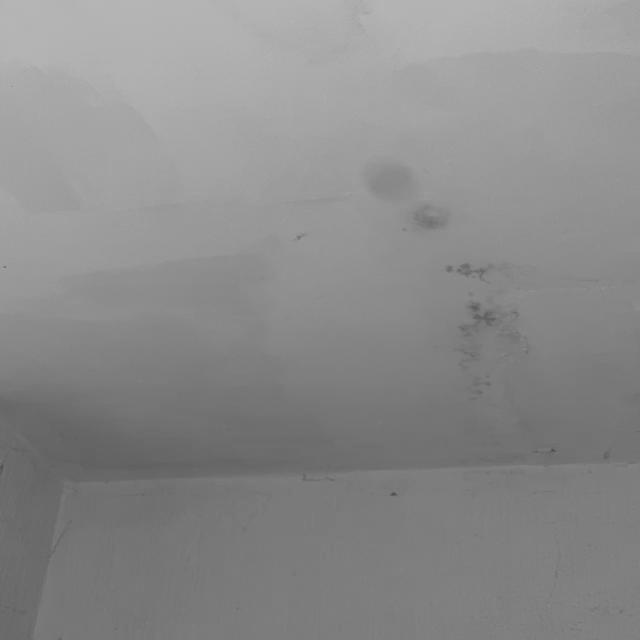stain marks: (0, 58, 184, 224), (0, 330, 305, 430), (4, 236, 320, 328), (362, 39, 640, 130), (426, 251, 555, 416), (339, 144, 465, 243), (222, 1, 370, 54), (506, 423, 640, 473), (278, 470, 420, 508)
